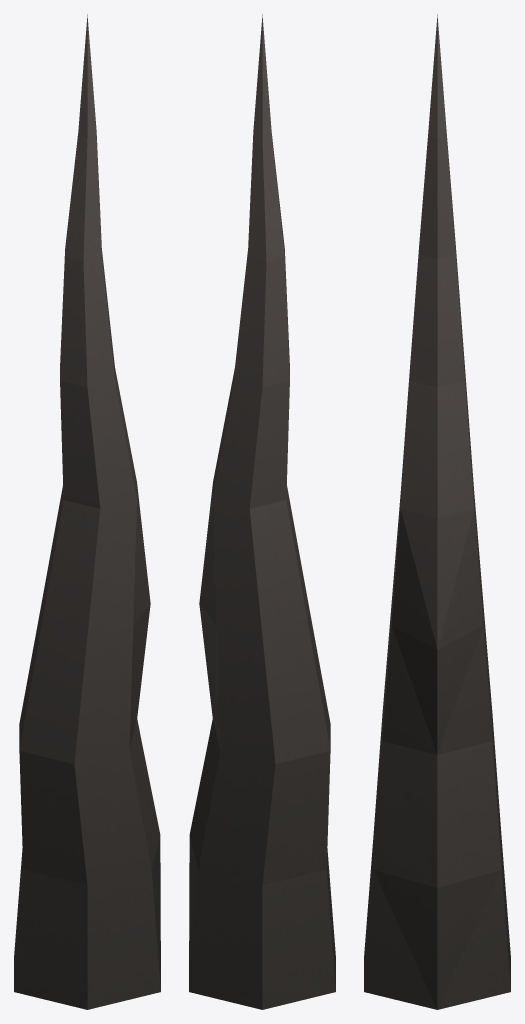
File: Stal_10D.fbx
The picture shows the model from 3 angles, left to right: view 1: azimuth 30°, elevation 25°; view 2: azimuth 150°, elevation 25°; view 3: azimuth 270°, elevation 25°; orthographic projection.
Parts seen in each view (by area): view 1: pCone23; view 2: pCone23; view 3: pCone23.
Boxes of the visible parts, x1=… form: pCone23: x1=14, y1=14, x2=160, y2=1009; pCone23: x1=189, y1=14, x2=335, y2=1009; pCone23: x1=364, y1=14, x2=510, y2=1009.
Size of the model in its own units: 400 by 2500 by 346.
Materials: 1 (1 with a texture image).
